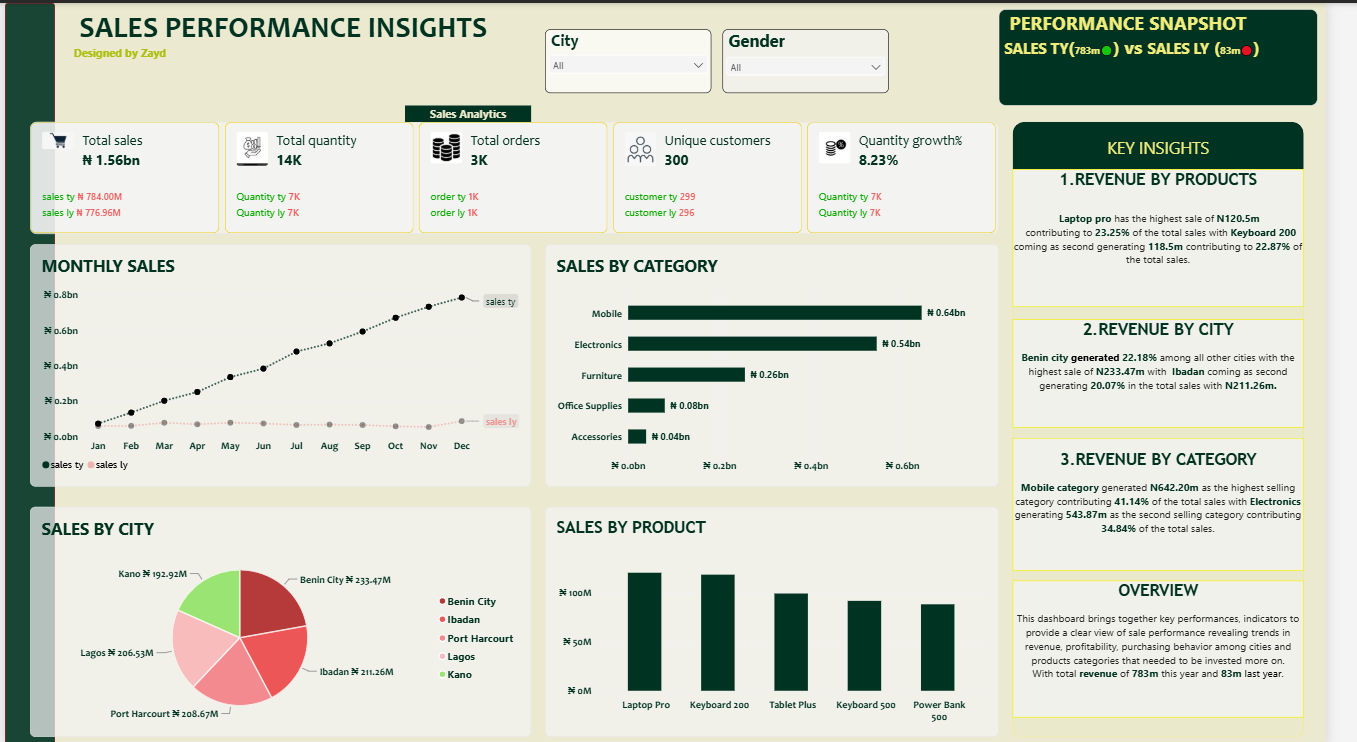

What the dashboard file says about the page in this screenshot:
{"tool":"powerbi","page":{"name":"Sales Analytics","canvas":[1920,1080],"ordinal":0},"visuals":[{"type":"shape","box":[0,0,72.6,1080.4],"z":0},{"type":"cardVisual","fields":{"Data":["orders.Total sales","orders.Total quantity","orders.Total orders","orders.Unique customers","orders.Quantity growth%"]},"box":[36.3,172.5,1407.2,168.9],"z":1000},{"type":"textbox","box":[99.9,9.1,664.6,139.8],"z":2000},{"type":"slicer","fields":{"Values":["customers.City"]},"box":[784.4,38.1,241.5,92.6],"z":3000},{"type":"slicer","fields":{"Values":["customers.Gender"]},"box":[1042.2,38.1,241.5,92.6],"z":4000},{"type":"textbox","box":[581,148.9,183.4,23.6],"z":5000},{"type":"textbox","box":[1443.5,9.1,463,139.8],"z":6000},{"type":"lineChart","title":"MONTHLY SALES","fields":{"Category":["Date table.Month"],"Y":["orders.sales ty","orders.sales ly"]},"box":[36.3,365,728.1,352.3],"z":7000},{"type":"clusteredBarChart","title":"SALES BY CATEGORY","fields":{"Category":["products.Category"],"Y":["orders.Total sales"]},"box":[786.2,365,659.1,352.3],"z":8000},{"type":"clusteredColumnChart","title":"SALES BY PRODUCT","fields":{"Category":["products.Product_Name"],"Y":["orders.Total sales"]},"box":[784.4,731.7,659.1,334.1],"z":9000},{"type":"pieChart","title":"SALES  BY CITY","fields":{"Category":["customers.City"],"Y":["orders.Total sales"]},"box":[36.3,731.7,728.1,334.1],"z":10000},{"type":"shape","box":[1463.5,172.5,423.1,69],"z":11000},{"type":"shape","box":[1463.5,241.5,423.1,824.3],"z":12000},{"type":"textbox","box":[1463.5,241.5,423.1,199.7],"z":13000},{"type":"textbox","box":[1463.5,459.4,423.1,158],"z":14000},{"type":"textbox","box":[1463.5,631.9,423.1,192.5],"z":15000},{"type":"textbox","box":[1463.5,838.9,423.1,199],"z":16000}]}

Visuals, with their boxes in screenshot pixels (x1, y1, x2, y2), scaled from the page's 1920x1080 canvas onto the 1357x742 screenshot:
shape: x1=0, y1=0, x2=51, y2=741
cardVisual - orders.Total sales x orders.Total quantity: x1=26, y1=119, x2=1020, y2=235
textbox: x1=71, y1=6, x2=540, y2=102
slicer - customers.City: x1=554, y1=26, x2=725, y2=90
slicer - customers.Gender: x1=737, y1=26, x2=907, y2=90
textbox: x1=411, y1=102, x2=540, y2=119
textbox: x1=1020, y1=6, x2=1347, y2=102
"MONTHLY SALES" lineChart: x1=26, y1=251, x2=540, y2=493
"SALES BY CATEGORY" clusteredBarChart: x1=556, y1=251, x2=1021, y2=493
"SALES BY PRODUCT" clusteredColumnChart: x1=554, y1=503, x2=1020, y2=732
"SALES  BY CITY" pieChart: x1=26, y1=503, x2=540, y2=732
shape: x1=1034, y1=119, x2=1333, y2=166
shape: x1=1034, y1=166, x2=1333, y2=732
textbox: x1=1034, y1=166, x2=1333, y2=303
textbox: x1=1034, y1=316, x2=1333, y2=424
textbox: x1=1034, y1=434, x2=1333, y2=566
textbox: x1=1034, y1=576, x2=1333, y2=713
